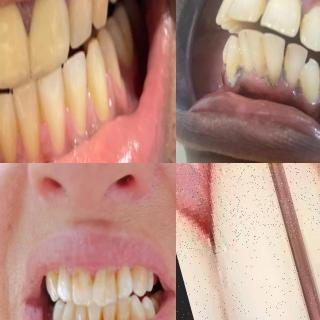calculus: (224, 63, 242, 89), (274, 58, 290, 86), (262, 62, 273, 86), (122, 314, 140, 320)
maligned: (267, 0, 306, 37), (261, 35, 285, 81), (228, 0, 266, 25), (297, 60, 320, 101), (301, 7, 320, 51), (283, 47, 306, 83), (223, 39, 241, 80), (247, 35, 263, 80), (216, 0, 241, 27), (239, 27, 249, 73)
plaque: (82, 64, 105, 117), (32, 94, 52, 142), (59, 78, 75, 130), (8, 101, 22, 148), (87, 0, 99, 27), (292, 72, 306, 95)
stains: (252, 0, 272, 18), (295, 12, 309, 36), (109, 303, 123, 320), (95, 305, 109, 320)
